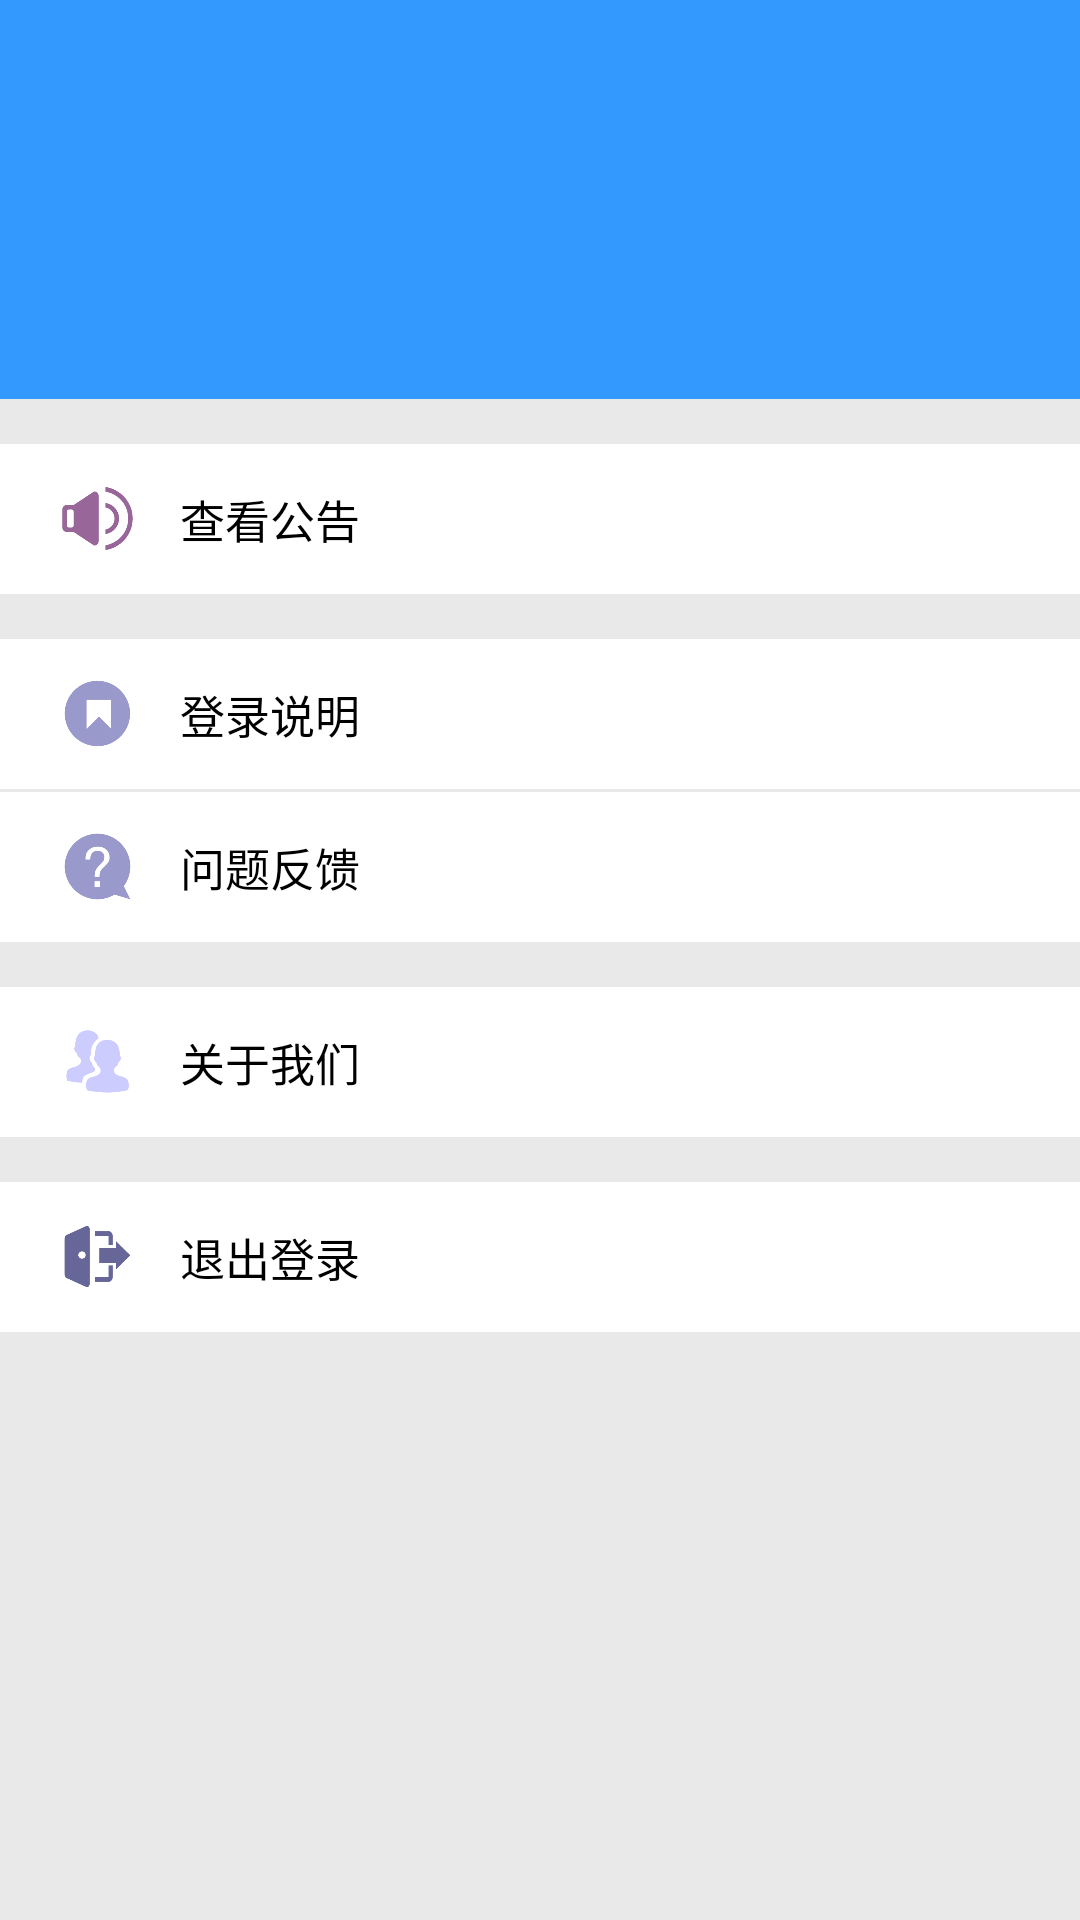

Where icons sit on this 1080 × 1920 app screen, as [x1,y1,x2,y2]:
about: [66,1030,129,1093]
question: [64,833,131,900]
